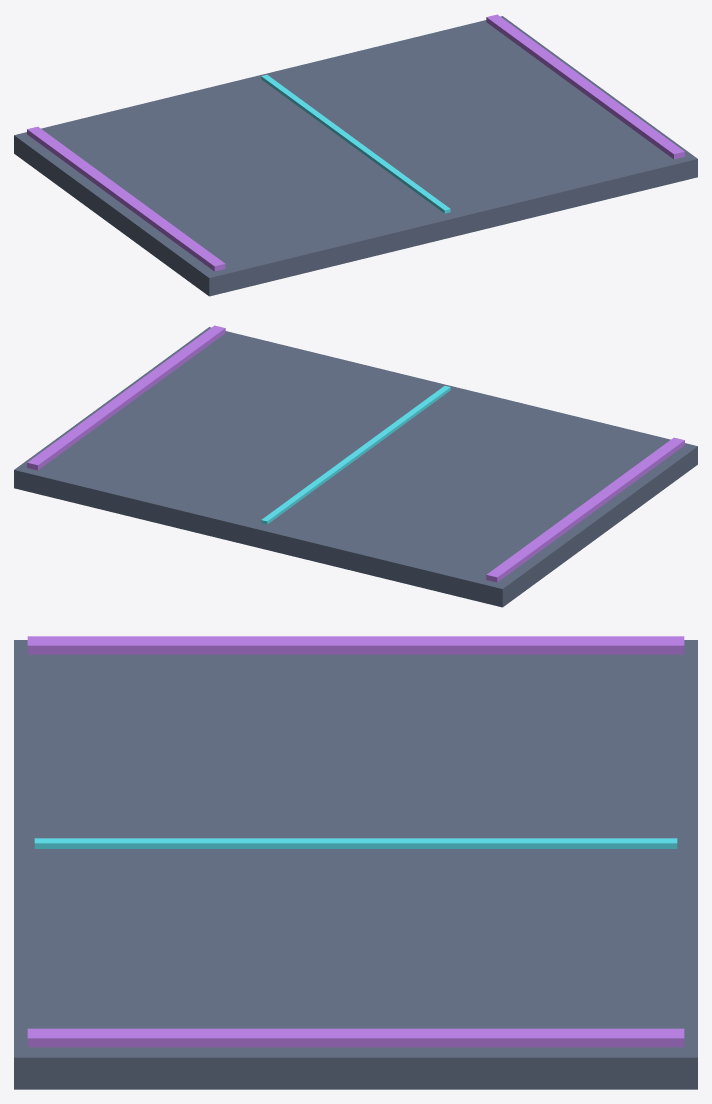
File: track_skating_2lane.glb
The picture shows the model from 3 angles, top to bottom: view 1: azimuth 30°, elevation 25°; view 2: azimuth 150°, elevation 25°; view 3: azimuth 270°, elevation 25°; orthographic projection. The views are drawn at different scales.
Parts seen in each view (by area): view 1: track_skating_2lane; view 2: track_skating_2lane; view 3: track_skating_2lane.
Boxes of the visible parts, x1,y1,x2,y2 form: track_skating_2lane: (14, 14, 697, 296); track_skating_2lane: (14, 325, 697, 607); track_skating_2lane: (14, 636, 697, 1089).
Bounding box in the file's own units: 4.45 × 0.2175 × 3.08.
